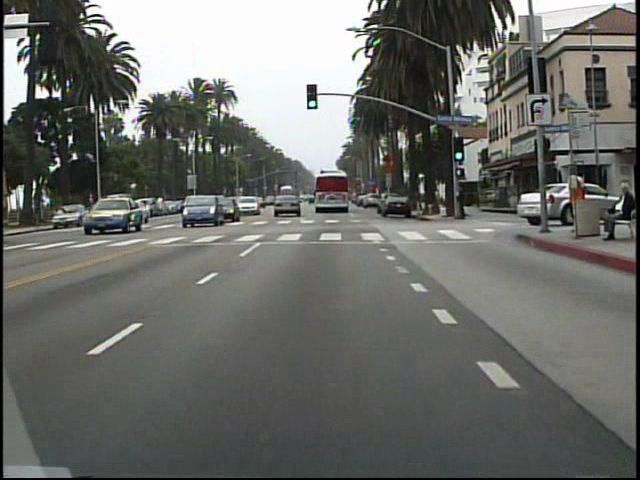person: (600, 180, 634, 243), (566, 170, 587, 232), (454, 183, 469, 226)
